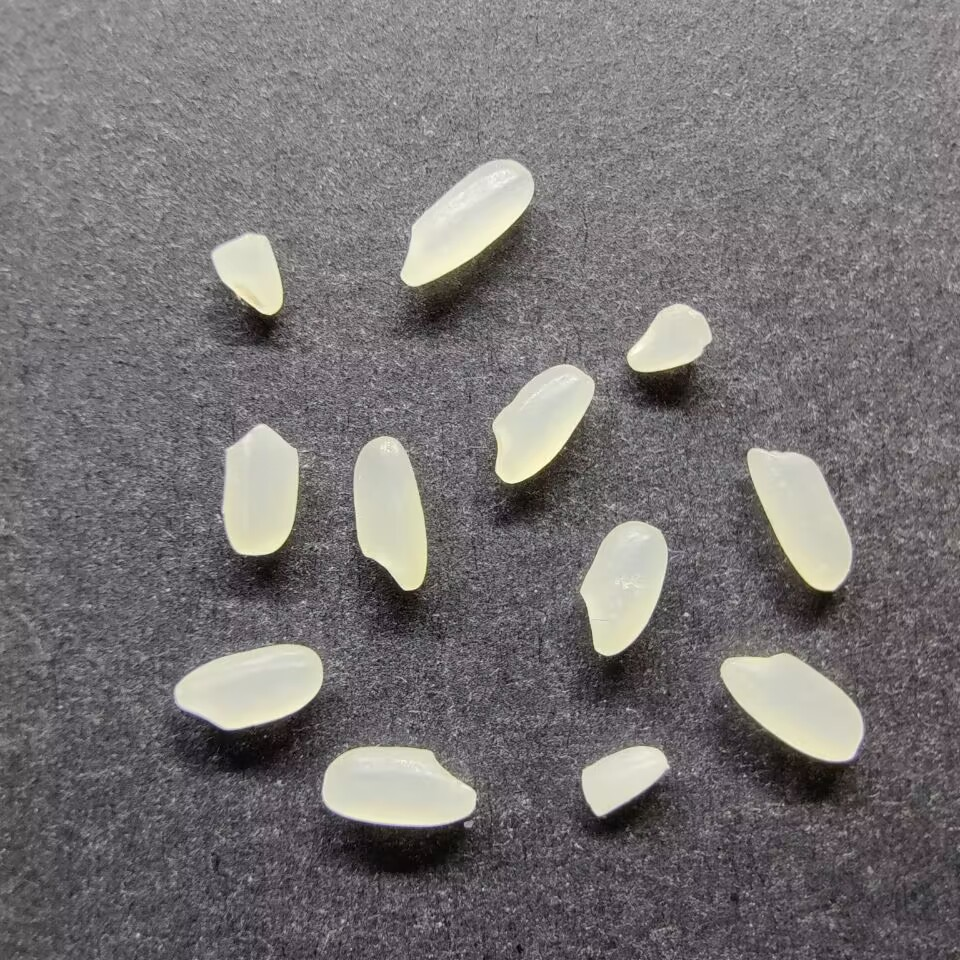broken: (576, 745, 670, 819), (207, 230, 285, 315), (623, 301, 714, 373)
rice: (397, 156, 537, 291), (744, 444, 856, 594), (718, 651, 866, 764), (318, 743, 479, 828), (172, 642, 323, 732), (489, 363, 596, 485), (349, 434, 431, 593), (577, 518, 667, 657), (218, 420, 301, 557)
